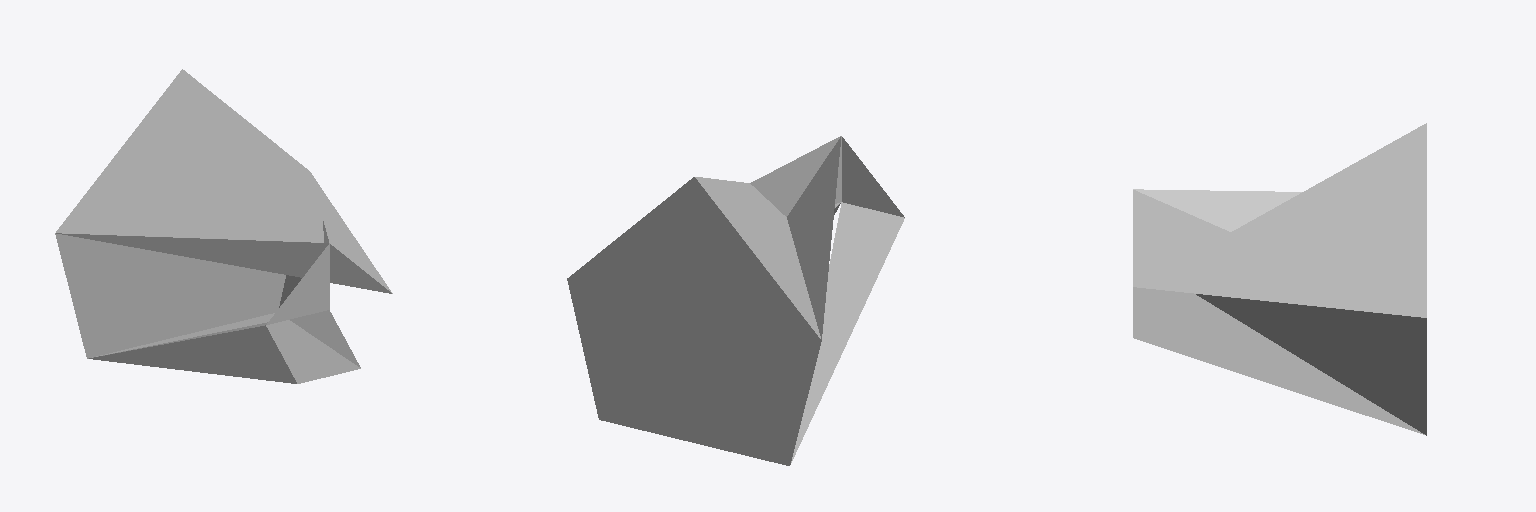
File: PentagonalPyramid.obj
The picture shows the model from 3 angles: view 1: azimuth 30°, elevation 25°; view 2: azimuth 150°, elevation 25°; view 3: azimuth 270°, elevation 25°; orthographic projection.
Parts seen in each view (by area): view 1: Mesh; view 2: Mesh; view 3: Mesh.
Part boxes in pixels (left/top/right/bottom): Mesh: left=55, top=69, right=392, bottom=383; Mesh: left=567, top=136, right=904, bottom=465; Mesh: left=1133, top=123, right=1426, bottom=435.
Bounding box in the file's own units: 2 × 2 × 2.